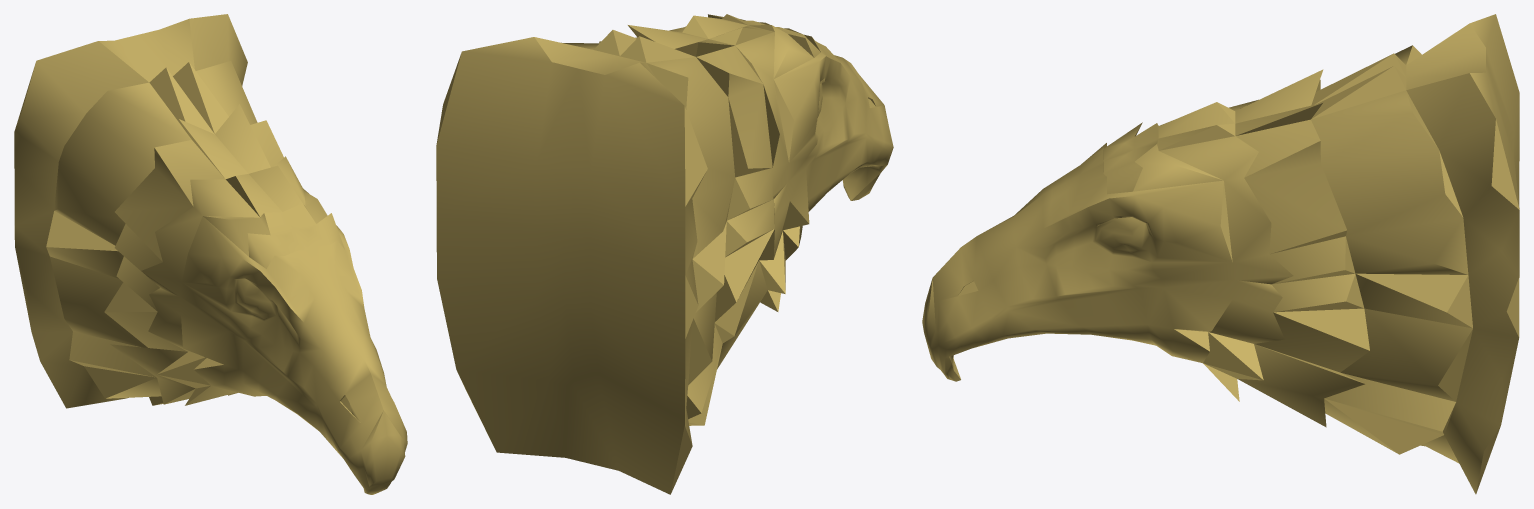
The picture shows the model from 3 angles, left to right: view 1: azimuth 30°, elevation 25°; view 2: azimuth 150°, elevation 25°; view 3: azimuth 270°, elevation 25°; orthographic projection. The views are drawn at different scales.
Parts seen in each view (by area): view 1: Object_4; view 2: Object_4; view 3: Object_4.
Boxes of the visible parts, left/top/right/bottom form: Object_4: left=14, top=14, right=407, bottom=494; Object_4: left=436, top=14, right=893, bottom=494; Object_4: left=922, top=14, right=1519, bottom=494.
Size of the model in its own units: 0.4927 by 0.7495 by 1.
